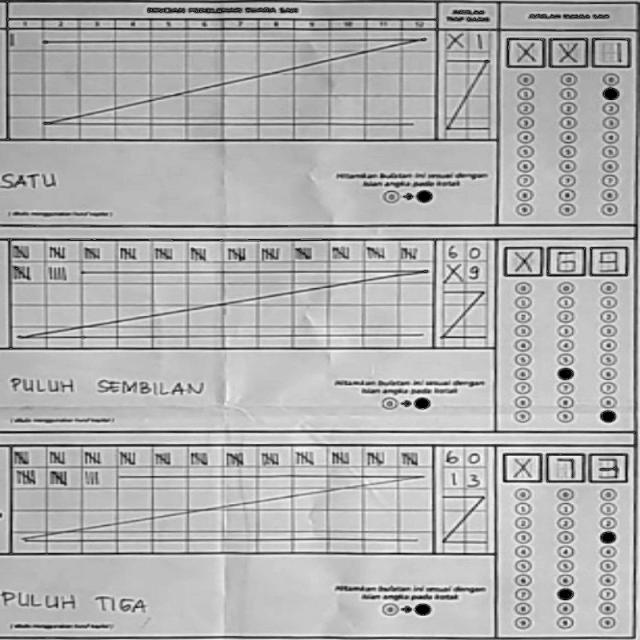Suara: (496, 235, 633, 276), (503, 448, 630, 490), (502, 28, 632, 69)
